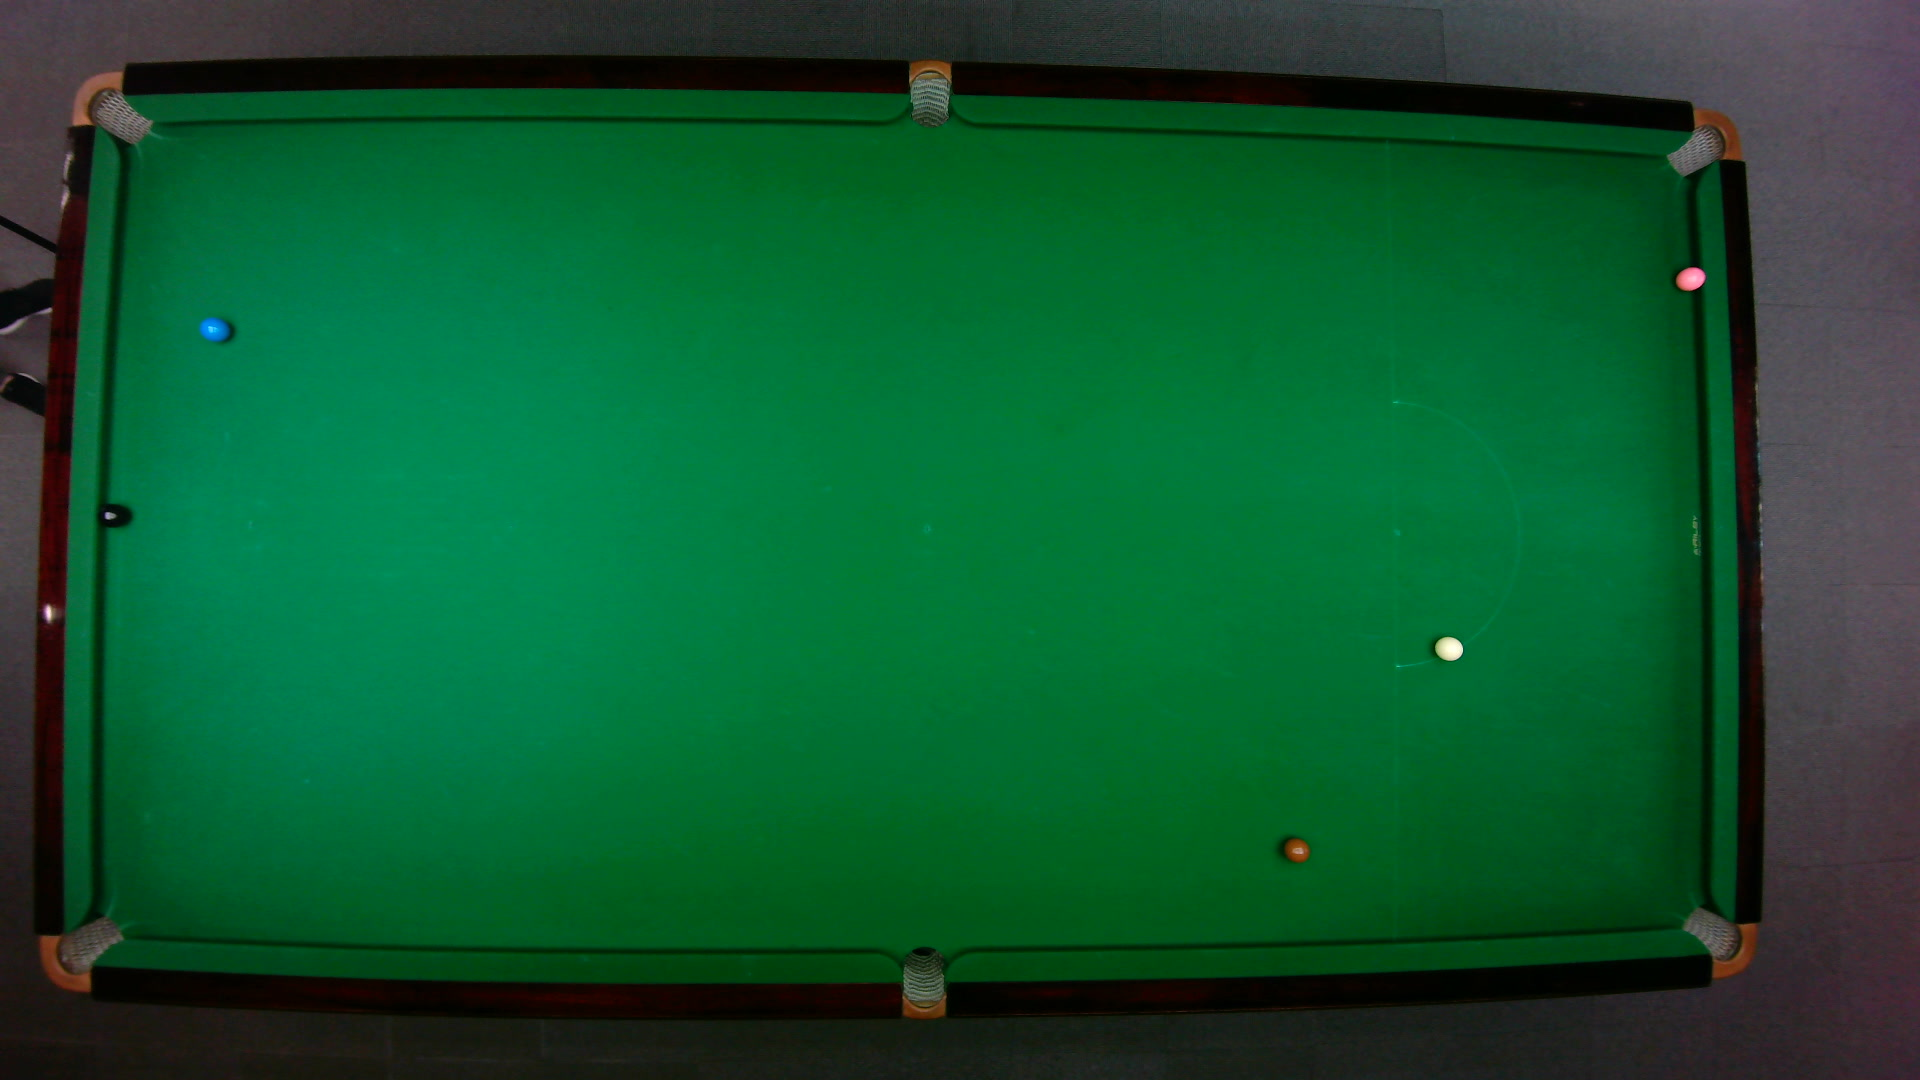bag: (37, 914, 125, 992), (69, 69, 153, 145), (1679, 905, 1756, 978), (1663, 107, 1742, 175), (901, 944, 944, 1021), (909, 57, 949, 128)
black: (96, 502, 127, 527)
blue: (196, 315, 231, 342)
brown: (1280, 833, 1309, 862)
pink: (1673, 264, 1706, 291)
white: (1432, 634, 1464, 661)
zone: (1390, 400, 1519, 659)
